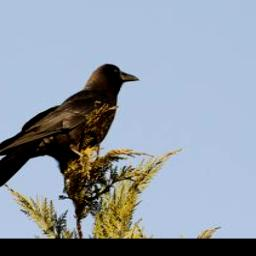Crow: (0, 59, 142, 192)
